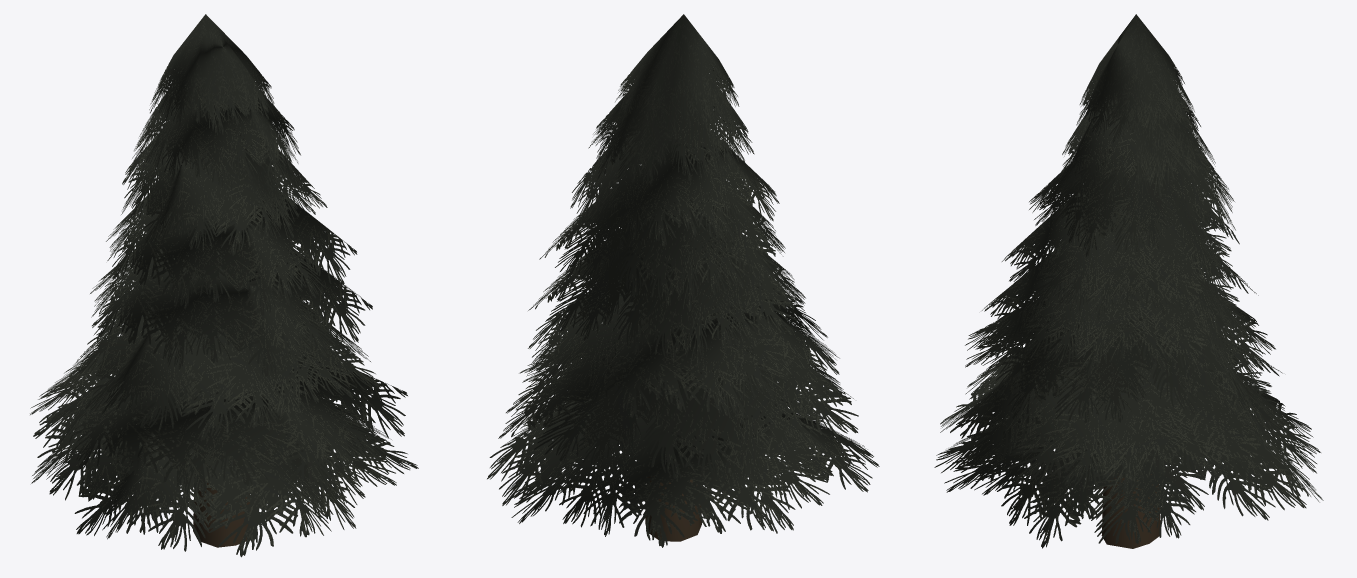
The model's file is Pine_3.fbx.
The picture shows the model from 3 angles, left to right: view 1: azimuth 30°, elevation 25°; view 2: azimuth 150°, elevation 25°; view 3: azimuth 270°, elevation 25°; orthographic projection.
Visible parts, largest first — view 1: Pine_3; view 2: Pine_3; view 3: Pine_3.
Boxes of the visible parts, x1,y1,x2,y2 form: Pine_3: [30, 14, 418, 557]; Pine_3: [487, 14, 879, 547]; Pine_3: [934, 14, 1323, 548].
Bounding box in the file's own units: 5.31 × 7.5 × 5.58.
